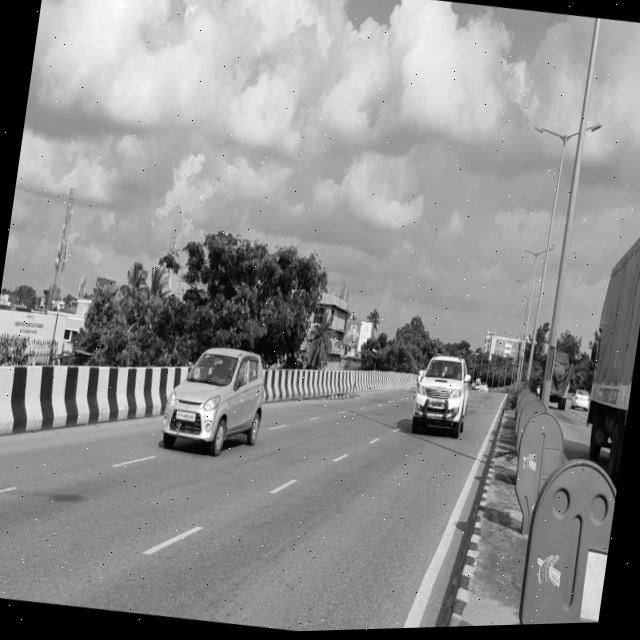car: (149, 323, 276, 473), (382, 328, 482, 457)
truck: (554, 192, 640, 497)
